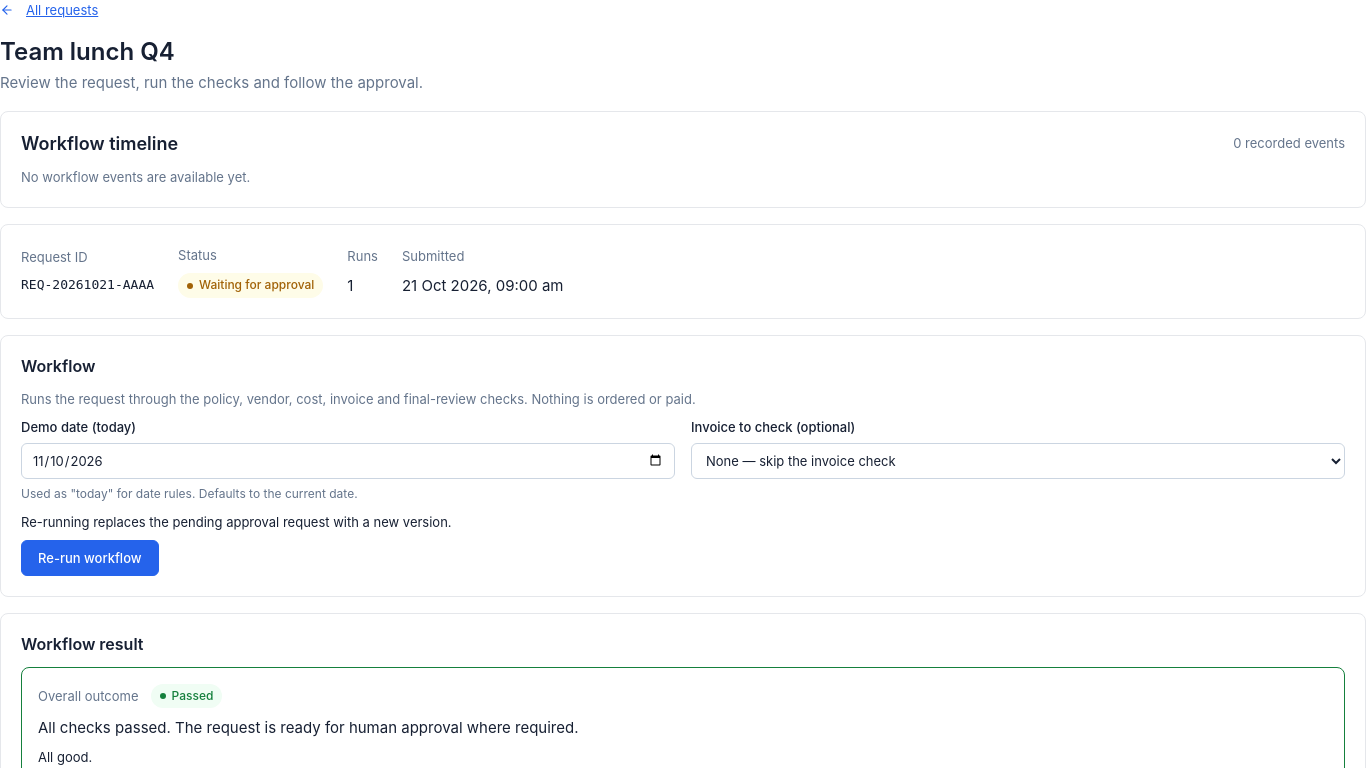
Test: AdminRequestDetailPage › asks for confirmation before re-running a pending approval
This screenshot has width=1366, height=768.
Step 1. Click the button "Re-run workflow" → (90, 558), box [21, 540, 159, 576]
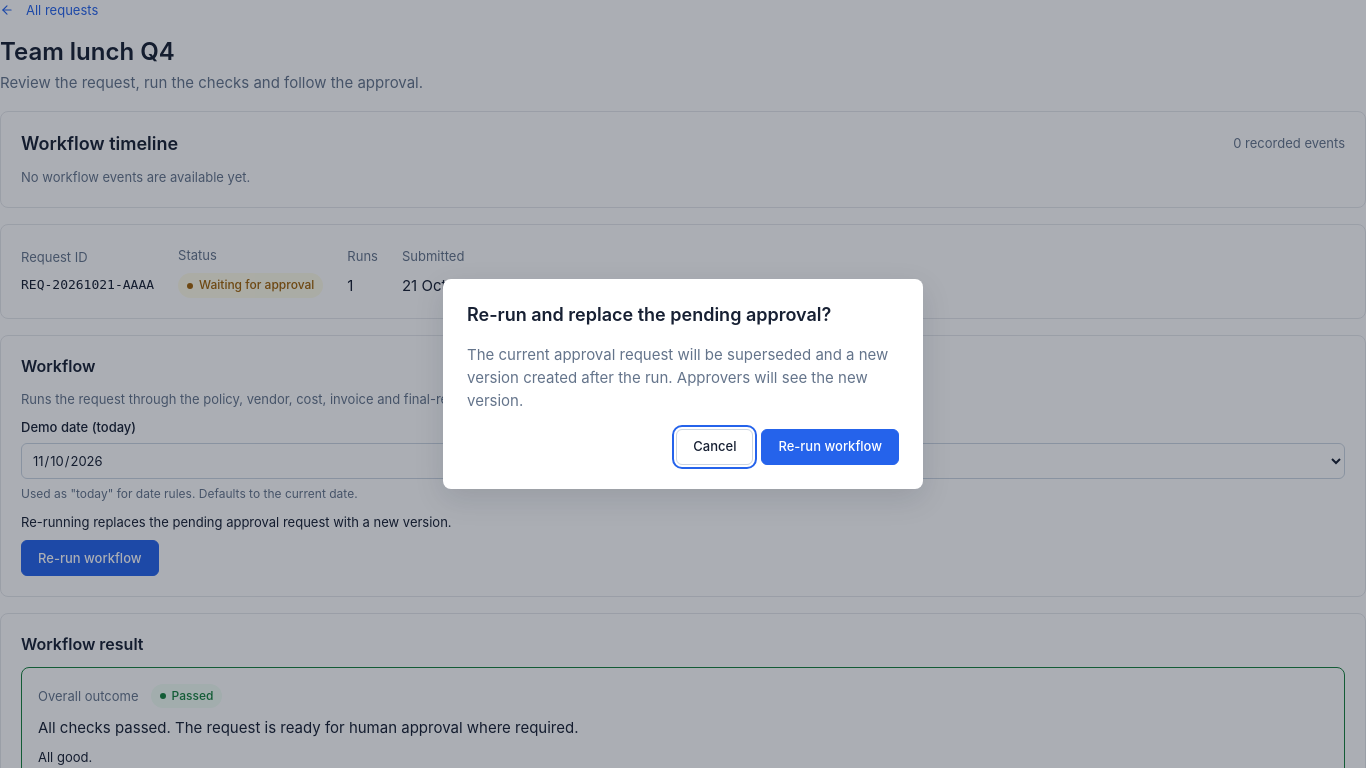
Now the heading "Re-run and replace the pending approval?" is shown, box [467, 304, 831, 325]
Step 2. Click the button "Cancel" → (715, 447), box [676, 429, 754, 465]
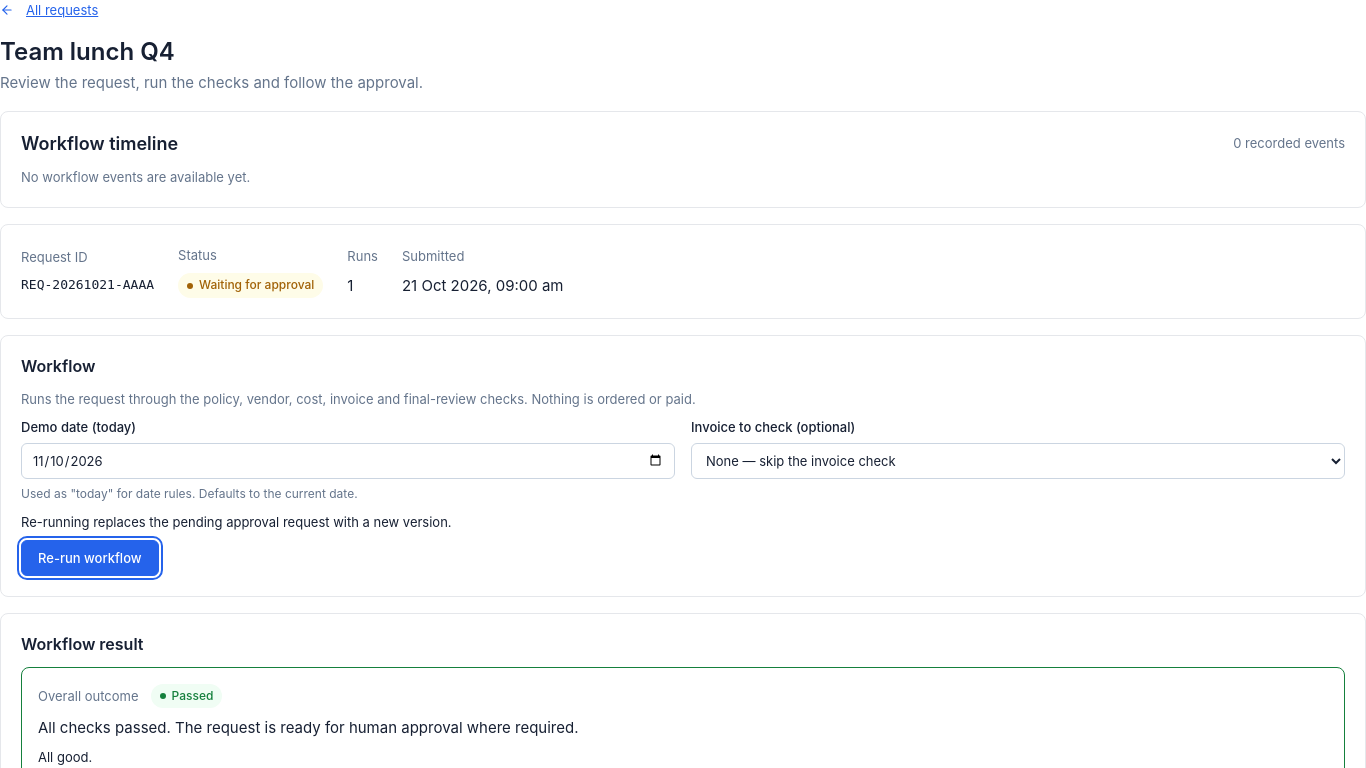
Step 3. Click the button "Re-run workflow" → (90, 558), box [21, 540, 159, 576]
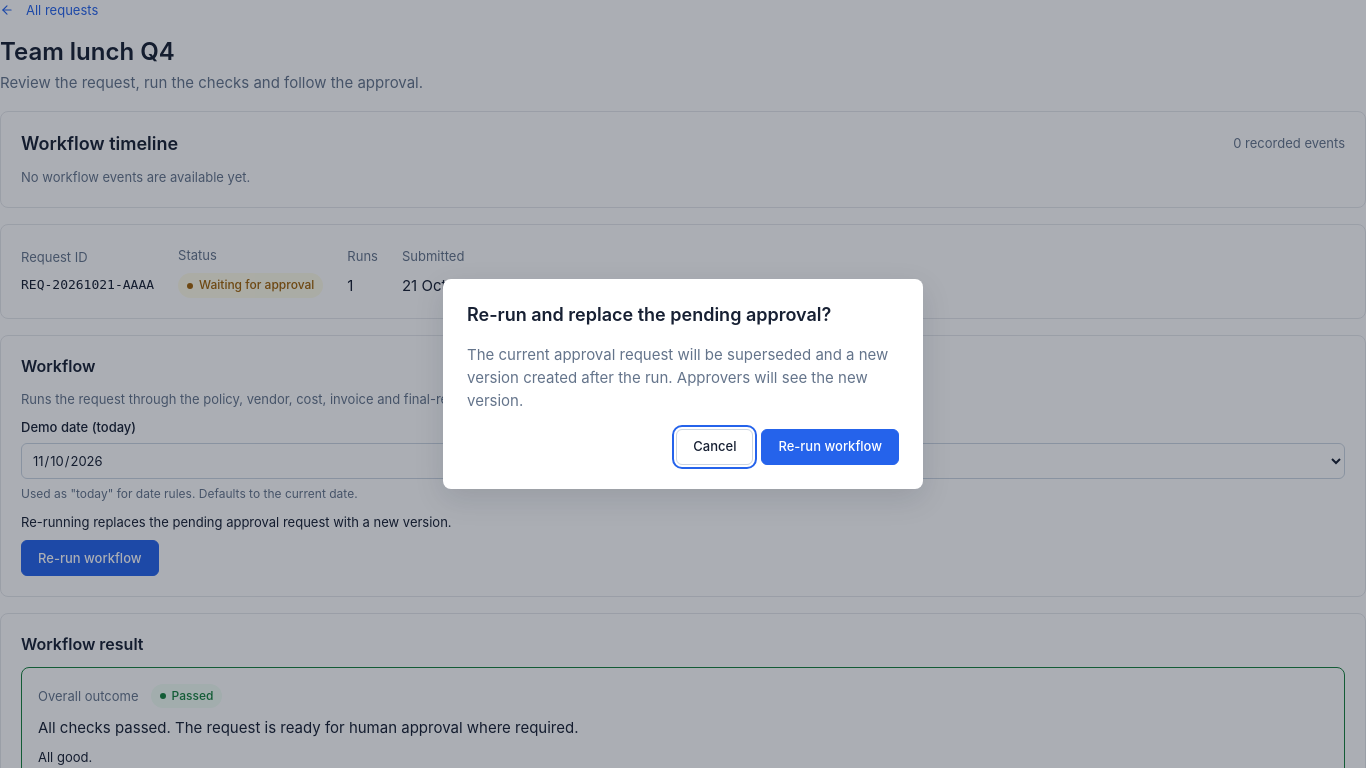
Step 4. Click the button "Re-run workflow" → (830, 447), box [761, 429, 899, 465]
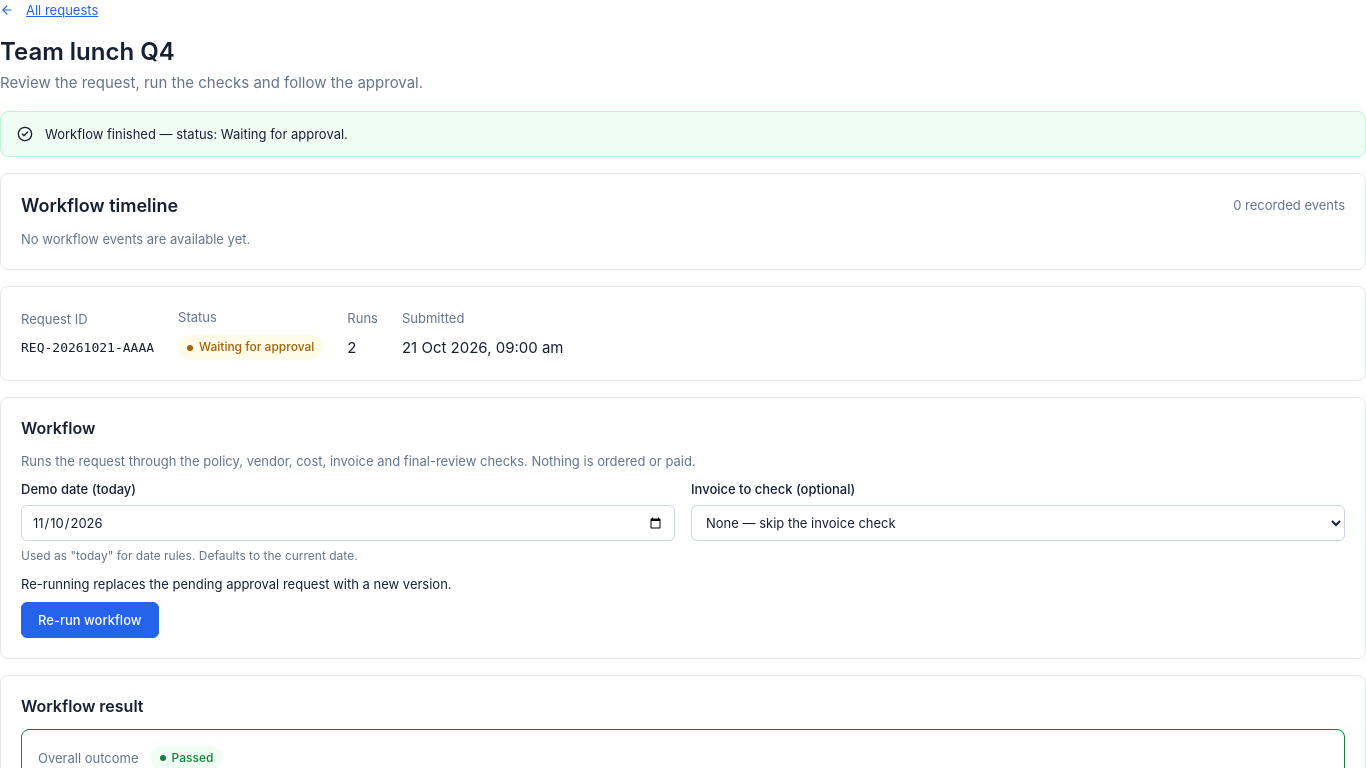
Now the dialog is gone
